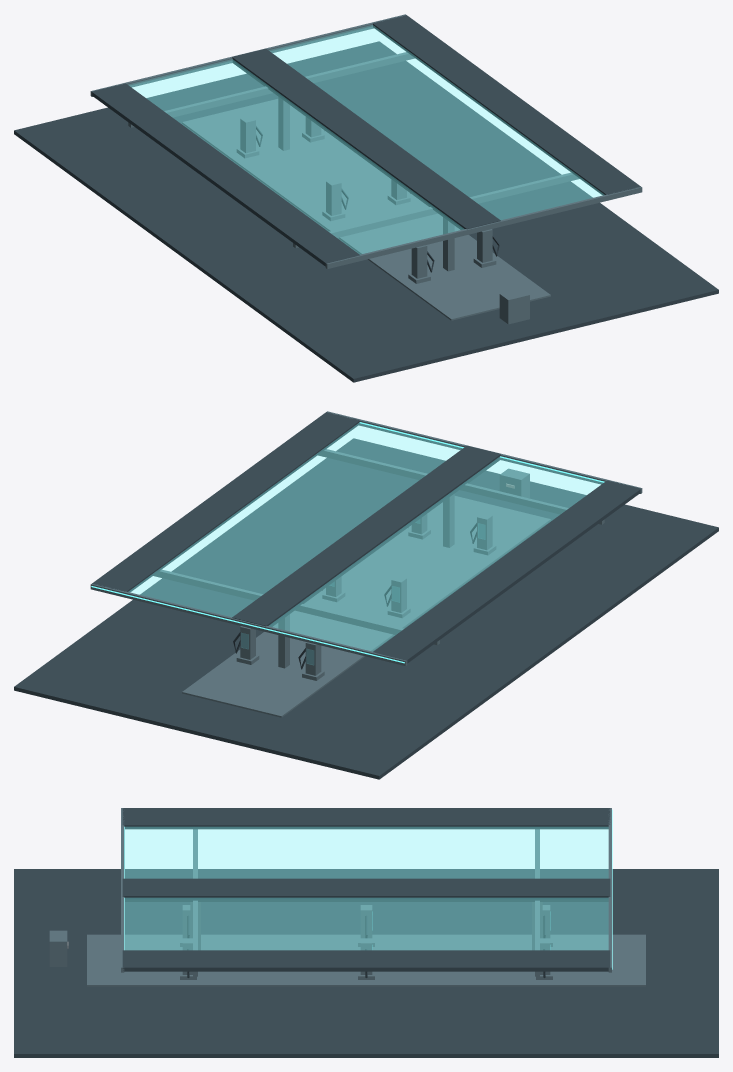
Rendered from ev_charging_station.lod1.glb.
3 renders of one model, top to bottom at view 1: azimuth 30°, elevation 25°; view 2: azimuth 150°, elevation 25°; view 3: azimuth 270°, elevation 25°, orthographic. The views are drawn at different scales.
Parts seen in each view (by area): view 1: ev_charging_station_graphite.001, ev_charging_station_glass.001, ev_charging_station_graphite_light.001; view 2: ev_charging_station_graphite.001, ev_charging_station_glass.001, ev_charging_station_graphite_light.001, ev_charging_station_edge.001; view 3: ev_charging_station_graphite.001, ev_charging_station_glass.001, ev_charging_station_graphite_light.001.
Boxes of the visible parts, x1,y1,x2,y2 form: ev_charging_station_graphite.001: (14, 15, 718, 382); ev_charging_station_glass.001: (129, 25, 604, 254); ev_charging_station_graphite_light.001: (90, 14, 642, 324); ev_charging_station_graphite.001: (14, 412, 718, 779); ev_charging_station_glass.001: (128, 422, 603, 664); ev_charging_station_graphite_light.001: (90, 411, 642, 717); ev_charging_station_edge.001: (91, 422, 604, 663); ev_charging_station_graphite.001: (14, 808, 718, 1057); ev_charging_station_glass.001: (125, 827, 608, 950); ev_charging_station_graphite_light.001: (49, 808, 645, 986).
Bounding box in the file's own units: 24.6 × 4.83 × 39.6.
